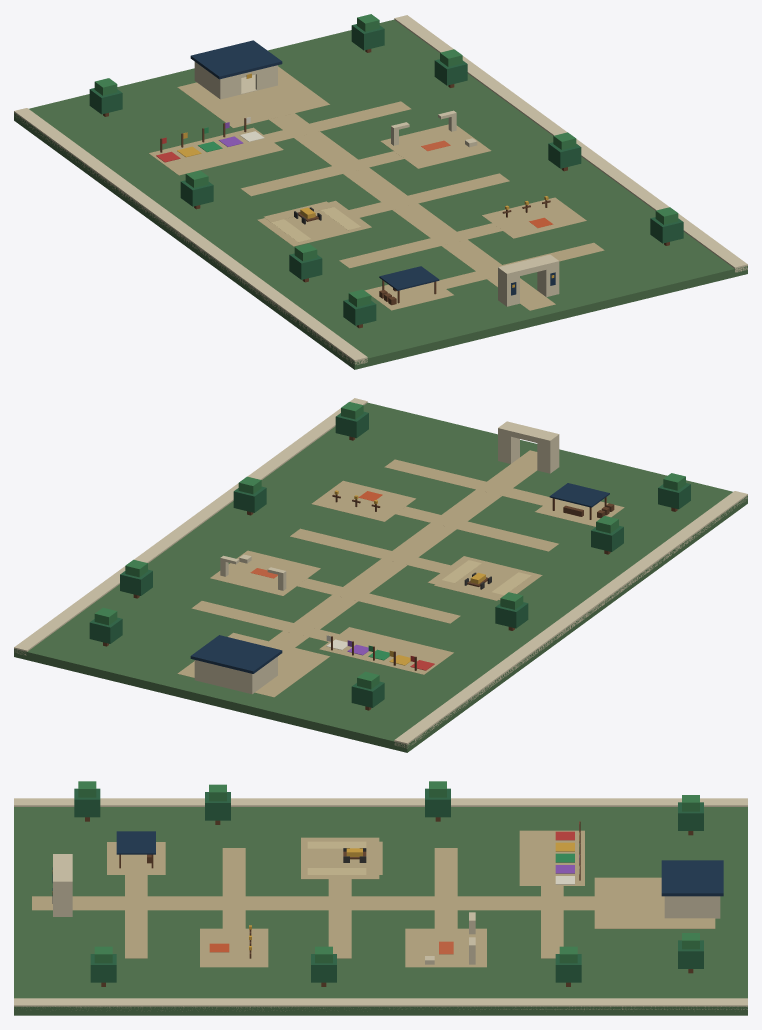
The model's file is crown_road_complete.glb.
The picture shows the model from 3 angles, top to bottom: view 1: azimuth 30°, elevation 25°; view 2: azimuth 150°, elevation 25°; view 3: azimuth 270°, elevation 25°; orthographic projection. The views are drawn at different scales.
Visible parts, largest first — view 1: crown_road_complete; view 2: crown_road_complete; view 3: crown_road_complete.
Boxes of the visible parts, <box> form: crown_road_complete: <box>14,14,747,369</box>; crown_road_complete: <box>14,398,747,752</box>; crown_road_complete: <box>14,781,747,1015</box>.
Size of the model in its own units: 300 by 30 by 450.
